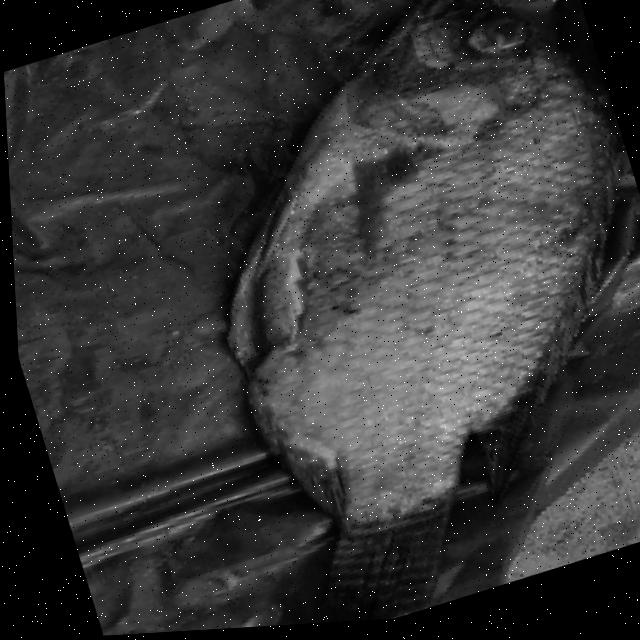Non-Fresh: (229, 0, 640, 460), (452, 0, 542, 77)
